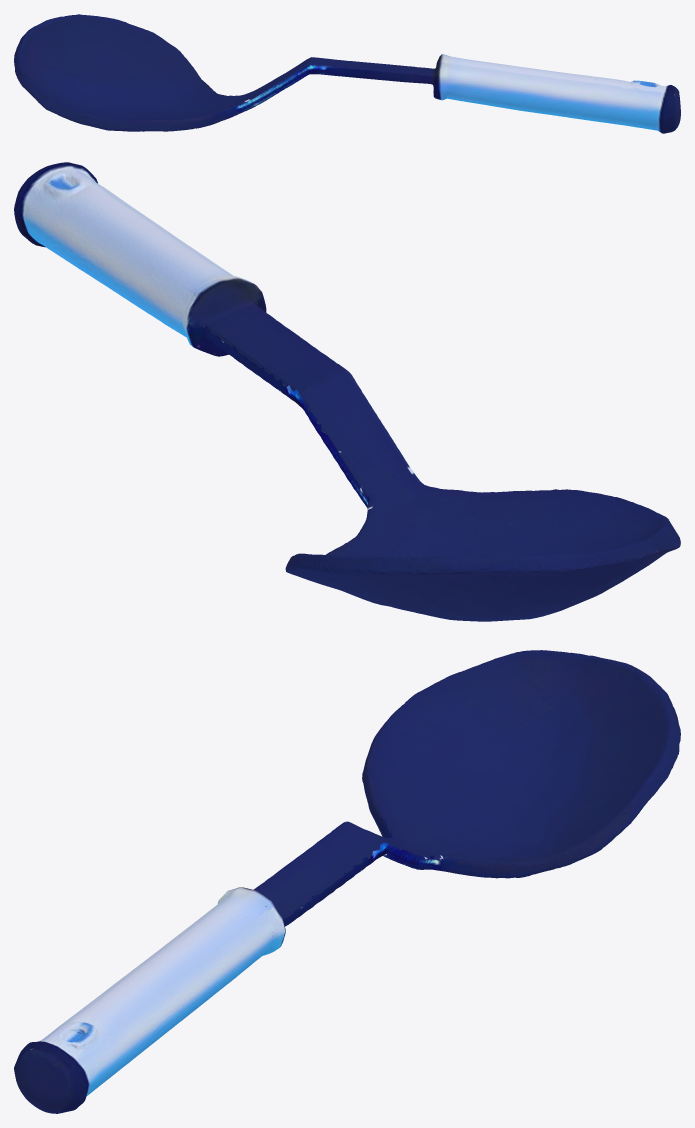
File: obj06_baseline.glb
3 renders of one model, top to bottom at view 1: azimuth 30°, elevation 25°; view 2: azimuth 150°, elevation 25°; view 3: azimuth 270°, elevation 25°, orthographic. The views are drawn at different scales.
Parts seen in each view (by area): view 1: n1; view 2: n1; view 3: n1.
Part boxes in pixels (x1,y1,x2,y2): n1: (14, 14, 680, 133); n1: (14, 162, 680, 621); n1: (14, 650, 680, 1113).
Bounding box in the file's own units: 0.8896 × 0.1229 × 0.6548.
1 material, 1 textured.
